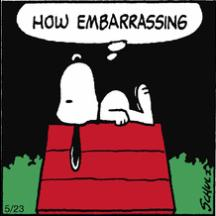snoopy: (54, 52, 156, 174)
